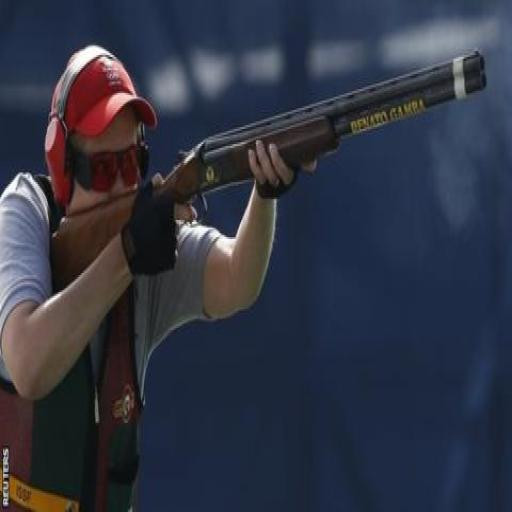shooting: (0, 42, 319, 510)
